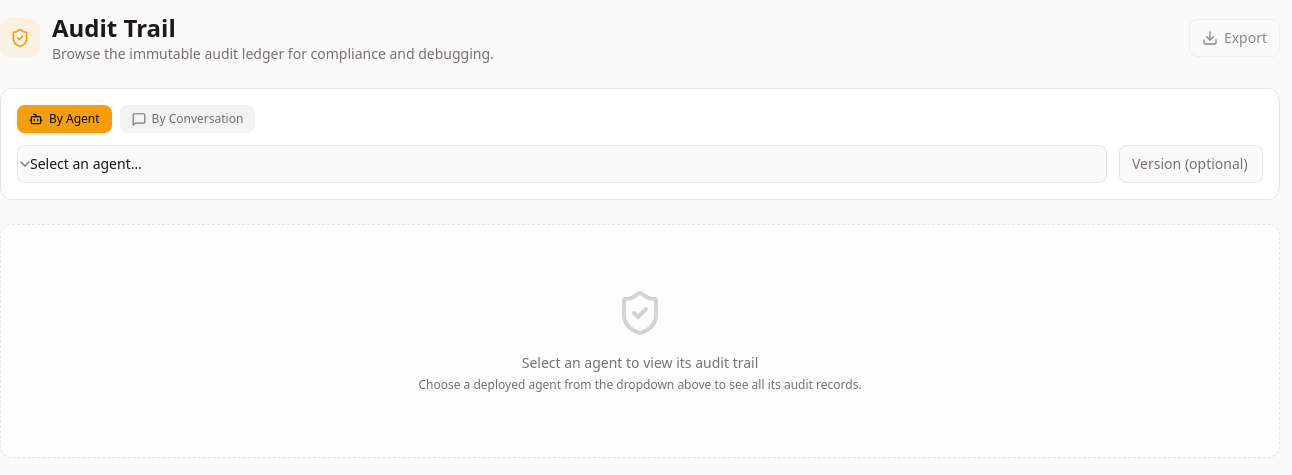
AuditPage › shows conversation ID input when toggled to conversation mode
What coordinates should you click on to do the following:
click the button with test id "mode-conversation"
I would click on:
 (187, 119)
Its box is top-left (120, 105), bottom-right (255, 133).
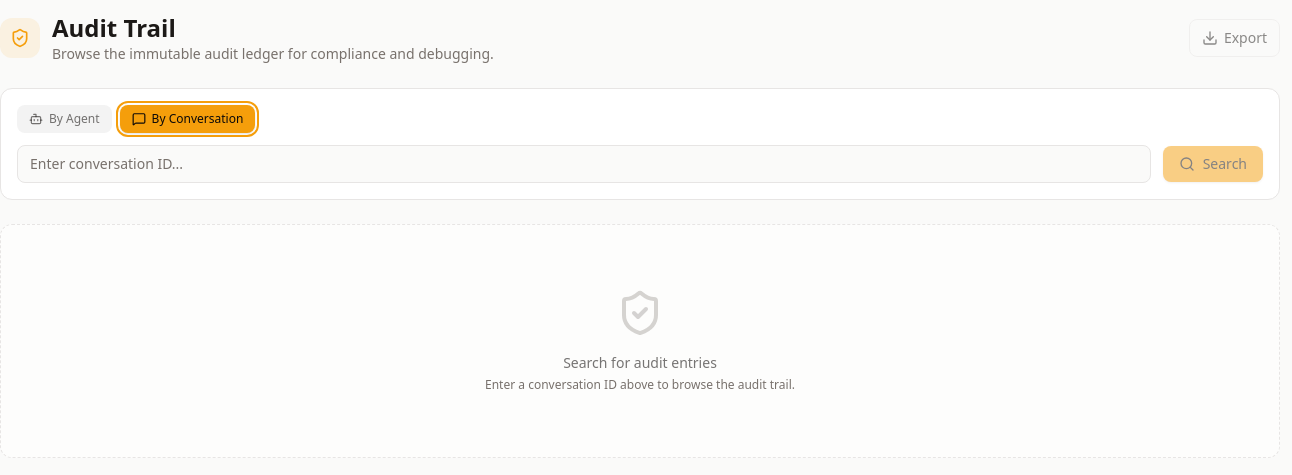
Check: the field with test id "conversation-input" is shown, box top-left (17, 145), bottom-right (1151, 183)
